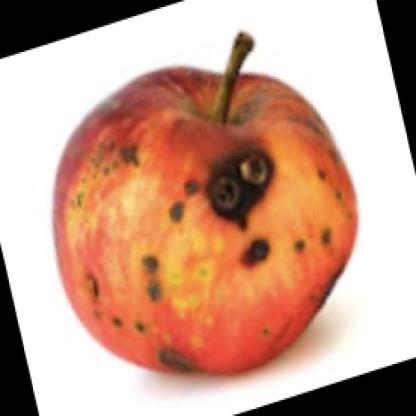defect: (71, 106, 211, 370), (201, 107, 359, 313)
